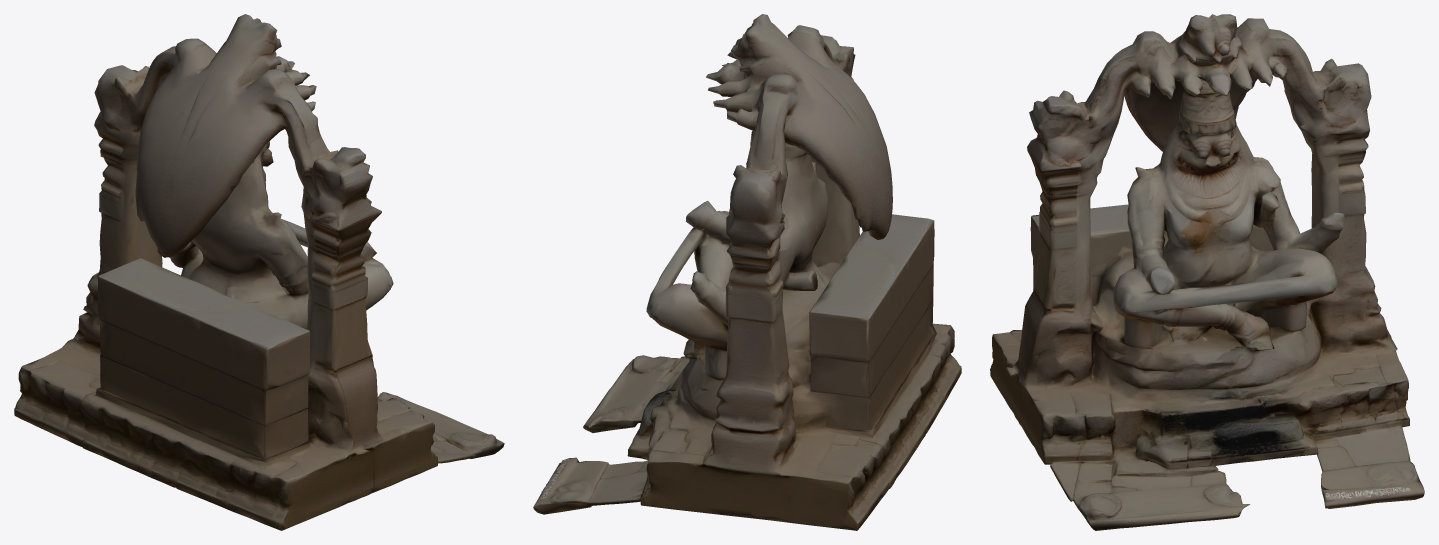
Rendered from Narasimhaswamy.glb.
3 renders of one model, left to right at view 1: azimuth 30°, elevation 25°; view 2: azimuth 150°, elevation 25°; view 3: azimuth 270°, elevation 25°, orthographic. The views are drawn at different scales.
Visible parts, largest first — view 1: Mesh::generatedModels/spKFgoCB4rp9sFpN6cQB.gltf; view 2: Mesh::generatedModels/spKFgoCB4rp9sFpN6cQB.gltf; view 3: Mesh::generatedModels/spKFgoCB4rp9sFpN6cQB.gltf.
Boxes of the visible parts, x1,y1,x2,y2 form: Mesh::generatedModels/spKFgoCB4rp9sFpN6cQB.gltf: (14, 14, 504, 530); Mesh::generatedModels/spKFgoCB4rp9sFpN6cQB.gltf: (533, 14, 961, 530); Mesh::generatedModels/spKFgoCB4rp9sFpN6cQB.gltf: (990, 14, 1424, 530).
Bounding box in the file's own units: 0.8522 × 1 × 0.9112.
1 material, 1 textured.
